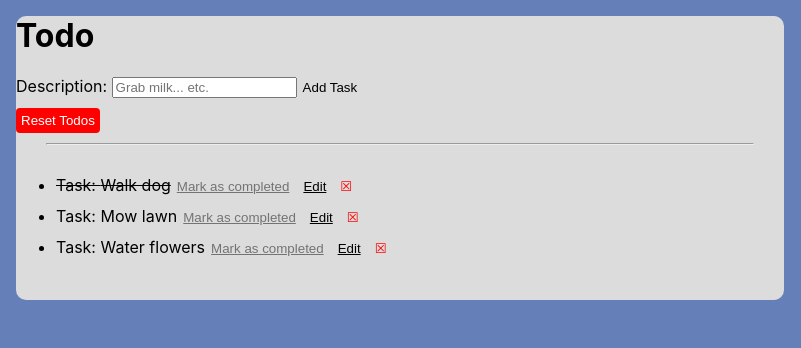
Test: should add new todo
Check: the text "Test add todo" is not shown
// Fill out the form
Type "Test add todo" into the field labelled "Description:". click: (204, 88)
box: [112,77,297,98]
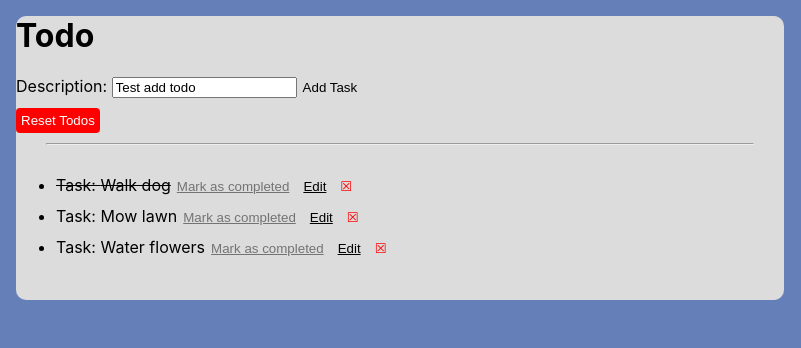
Click the button "Add Task". click: (330, 88)
box: [297,79,363,96]
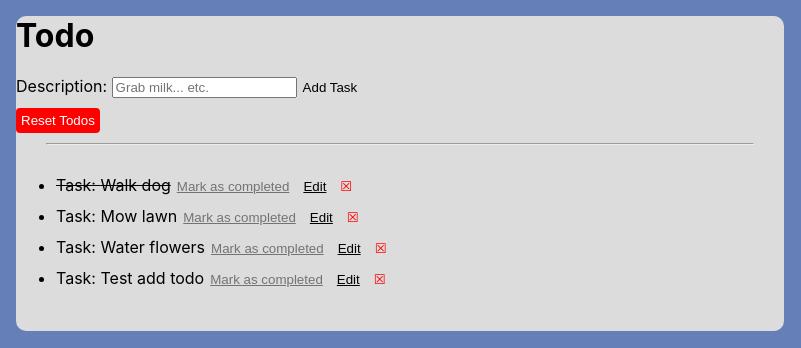
Check: the list item "Test add todo" is shown, box [100,268,204,288]
